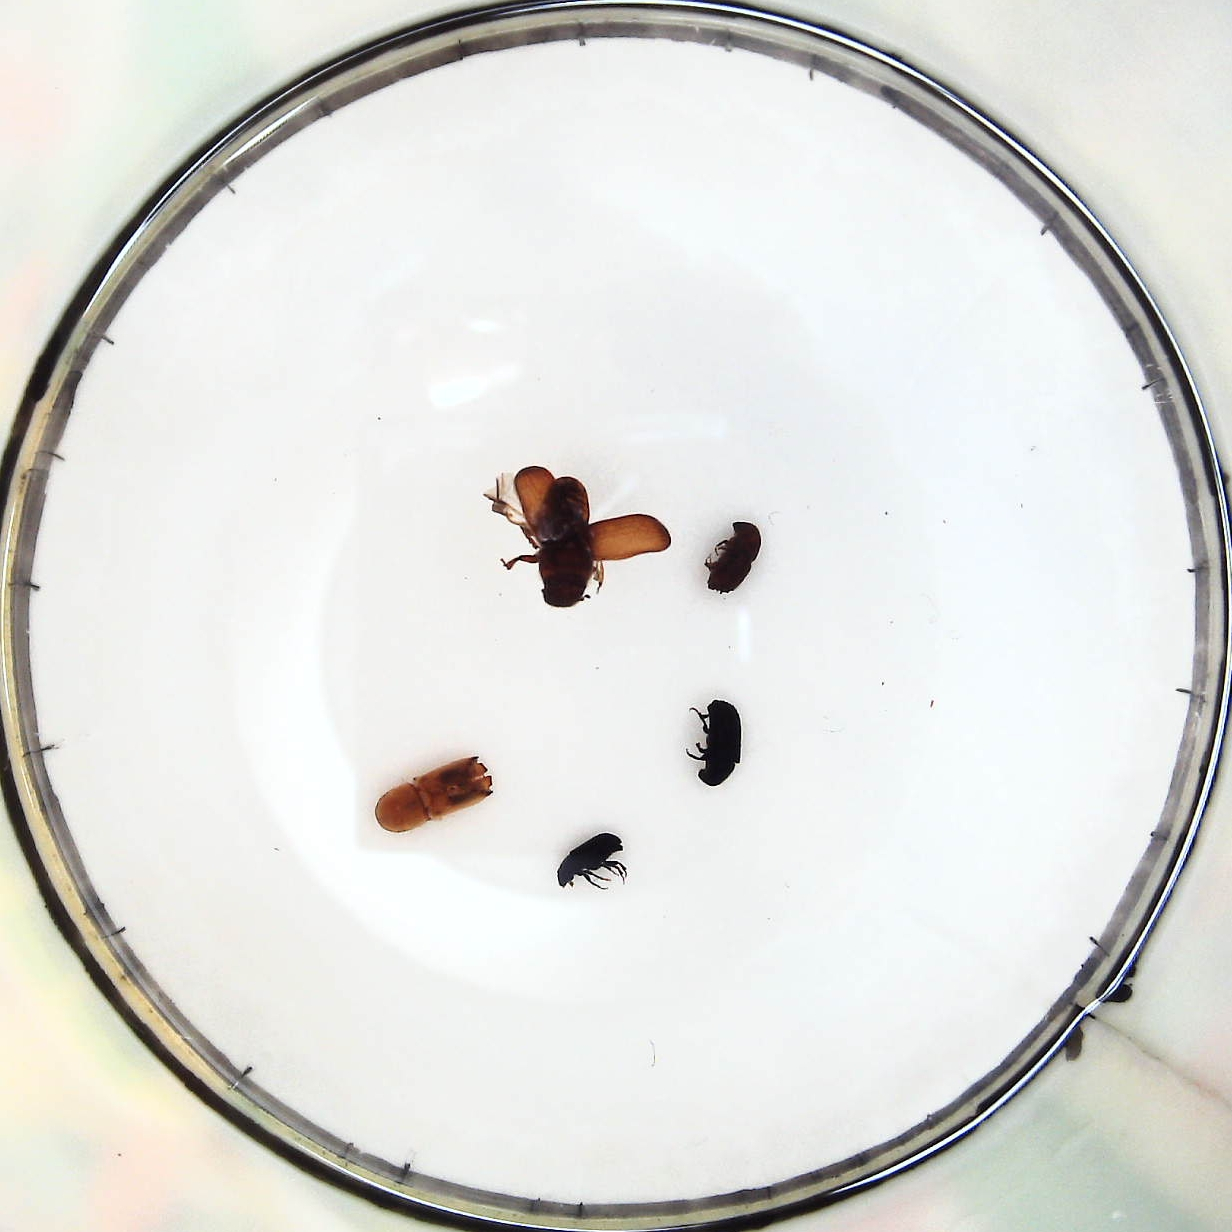Boerner: (372, 753, 496, 834)
Leconte: (491, 463, 675, 606)
Linnaeus: (705, 519, 764, 596)
armandi: (693, 699, 745, 790)
coleoptera: (554, 836, 630, 888)
